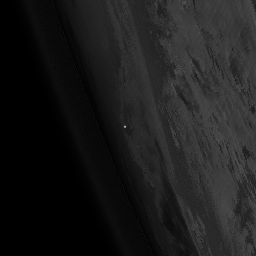Target: (122, 124, 127, 128)
